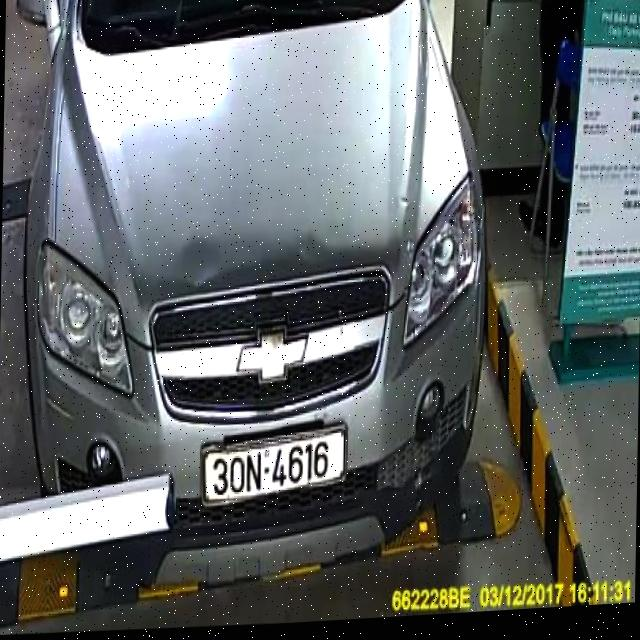car: (4, 0, 491, 605)
plate: (188, 424, 354, 507)
